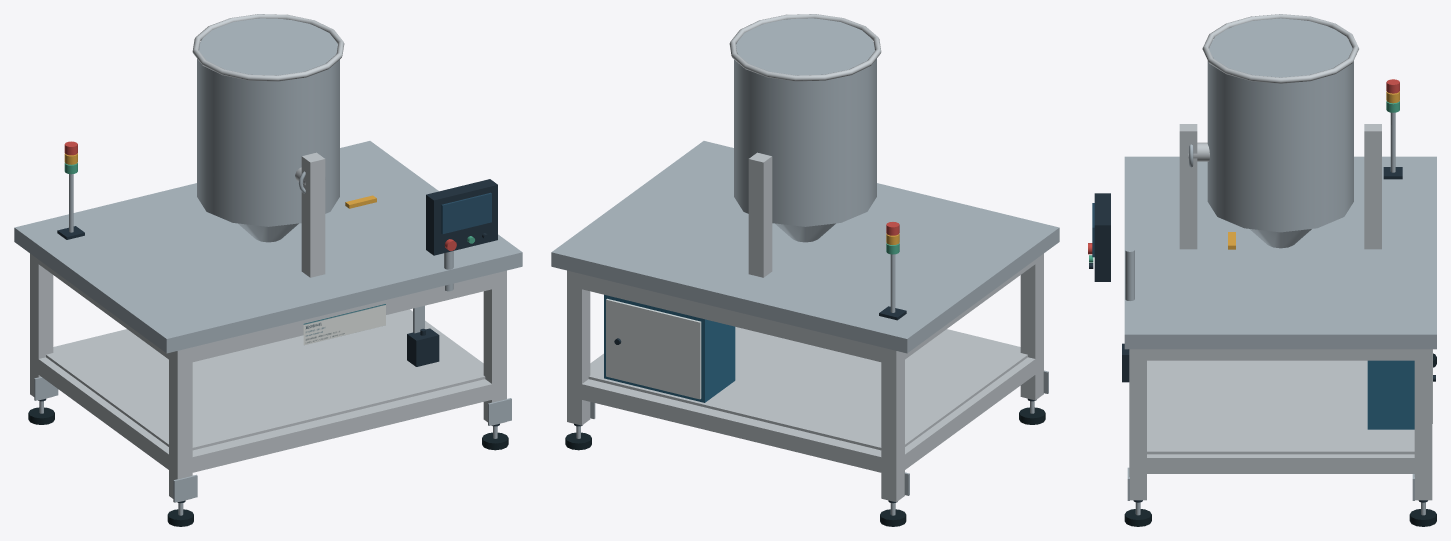
Rendered from vacuum-loader-cell.glb.
The picture shows the model from 3 angles, left to right: view 1: azimuth 30°, elevation 25°; view 2: azimuth 150°, elevation 25°; view 3: azimuth 270°, elevation 25°; orthographic projection. The views are drawn at different scales.
Parts seen in each view (by area): view 1: ClosedMachineBed_28, LowerShelf_29, ProcessShell_50, SlottedExtrusion_22, SlottedExtrusion_23, SlottedExtrusion_8, SlottedExtrusion_24, SlottedExtrusion_49, ConsoleBack_34, SlottedExtrusion_18, SlottedExtrusion_3, ServiceFlange_52 (+5 smaller); view 2: ClosedMachineBed_28, ProcessShell_50, LowerShelf_29, BackDoor_31, SlottedExtrusion_20, SlottedExtrusion_21, SlottedExtrusion_3, Cabinet_30, SlottedExtrusion_13, SlottedExtrusion_24, SlottedExtrusion_48, SlottedExtrusion_8 (+3 smaller); view 3: ClosedMachineBed_28, ProcessShell_50, LowerShelf_29, SlottedExtrusion_26, SlottedExtrusion_27, Cabinet_30, SlottedExtrusion_13, SlottedExtrusion_18, SlottedExtrusion_49, SlottedExtrusion_48, ServiceFlange_52, ConsoleBack_34 (+4 smaller).
Part boxes in pixels (x1,y1,x2,y2): ClosedMachineBed_28: (14, 141, 522, 353); LowerShelf_29: (46, 310, 485, 450); ProcessShell_50: (197, 18, 339, 226); SlottedExtrusion_22: (185, 379, 499, 473); SlottedExtrusion_23: (185, 272, 499, 363); SlottedExtrusion_8: (169, 347, 192, 502); SlottedExtrusion_24: (35, 357, 172, 469); SlottedExtrusion_49: (301, 152, 325, 277); ConsoleBack_34: (426, 179, 497, 255); SlottedExtrusion_18: (483, 270, 506, 425); SlottedExtrusion_3: (30, 253, 53, 400); ServiceFlange_52: (192, 14, 344, 81); ClosedMachineBed_28: (551, 141, 1059, 353); ProcessShell_50: (734, 18, 876, 226); LowerShelf_29: (588, 327, 1027, 450); BackDoor_31: (606, 298, 701, 399); SlottedExtrusion_20: (574, 379, 888, 473); SlottedExtrusion_21: (574, 272, 888, 362); SlottedExtrusion_3: (881, 347, 904, 502); Cabinet_30: (604, 294, 735, 402); SlottedExtrusion_13: (567, 270, 590, 425); SlottedExtrusion_24: (900, 357, 1035, 472); SlottedExtrusion_48: (748, 152, 772, 277); SlottedExtrusion_8: (1020, 253, 1043, 400); ClosedMachineBed_28: (1124, 156, 1436, 349); ProcessShell_50: (1207, 18, 1353, 232); LowerShelf_29: (1147, 360, 1414, 454); SlottedExtrusion_26: (1138, 454, 1423, 473); SlottedExtrusion_27: (1138, 349, 1423, 360); Cabinet_30: (1367, 360, 1414, 429); SlottedExtrusion_13: (1414, 349, 1432, 500); SlottedExtrusion_18: (1129, 349, 1146, 500); SlottedExtrusion_49: (1179, 124, 1197, 249); SlottedExtrusion_48: (1364, 124, 1381, 249); ServiceFlange_52: (1202, 14, 1358, 83); ConsoleBack_34: (1094, 193, 1110, 281).
Size of the model in its own units: 1.55 by 1.61 by 1.29.
Materials: 11 (1 with a texture image).
